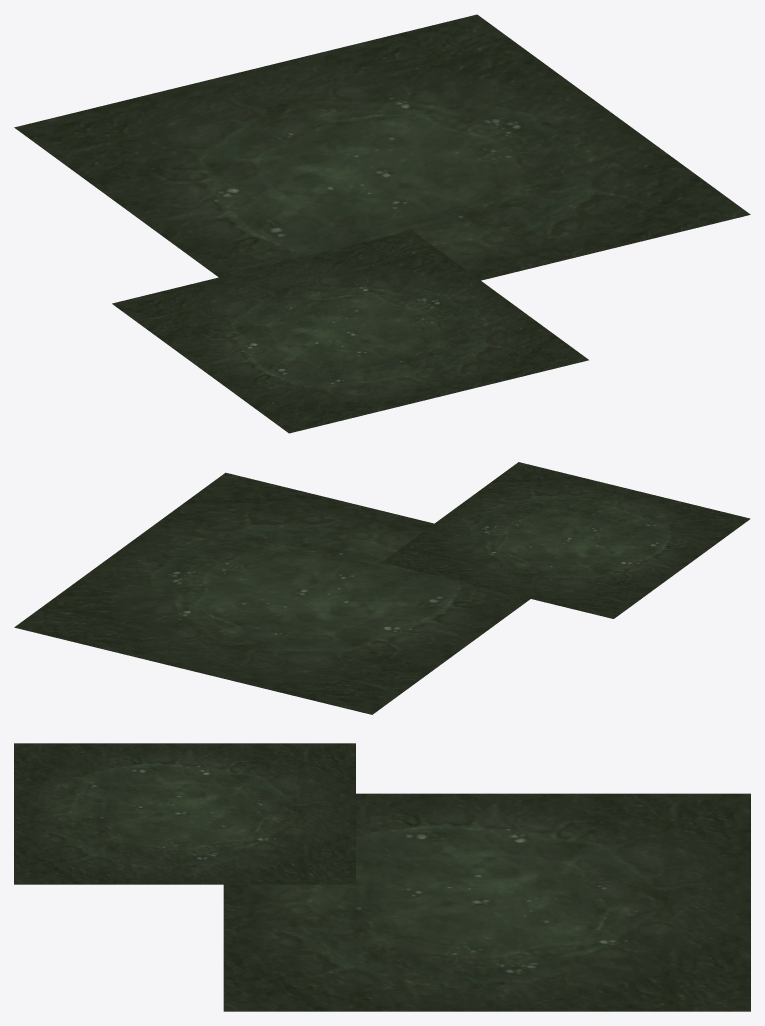
File: stemple_floor_decal_02.fbx
3 renders of one model, top to bottom at view 1: azimuth 30°, elevation 25°; view 2: azimuth 150°, elevation 25°; view 3: azimuth 270°, elevation 25°, orthographic. The views are drawn at different scales.
Visible parts, largest first — view 1: sunken_tileset/sunken_decal01_mat; view 2: sunken_tileset/sunken_decal01_mat; view 3: sunken_tileset/sunken_decal01_mat.
Part boxes in pixels (x1,y1,x2,y2): sunken_tileset/sunken_decal01_mat: (14,14,750,433); sunken_tileset/sunken_decal01_mat: (14,462,750,714); sunken_tileset/sunken_decal01_mat: (14,743,750,1011).
Bounding box in the file's own units: 8.31 × 0.001 × 9.65.
